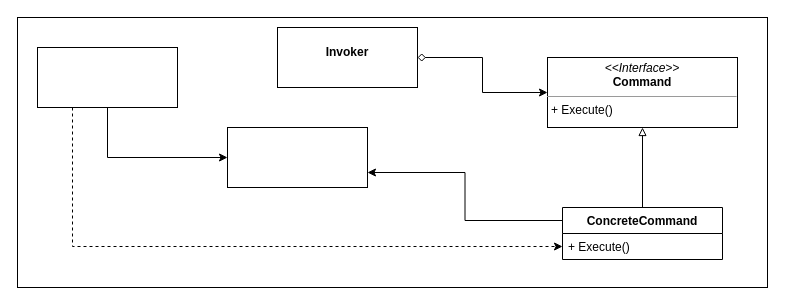
This 785x305 diagram has some shape labels left out. Each missing label, with the box of its shape:
Client: (36, 46, 178, 108)
Receiver: (226, 126, 368, 188)
